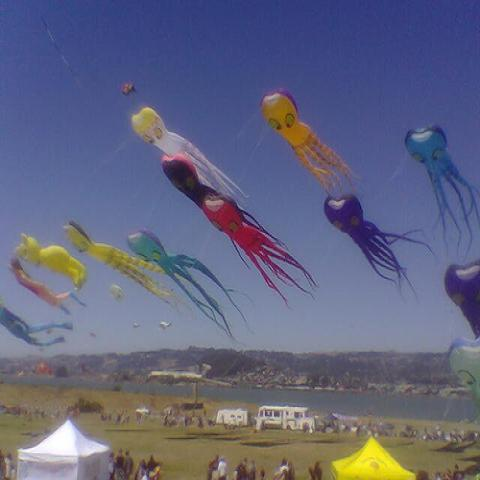bus: (258, 405, 316, 432)
car: (135, 403, 149, 415)
truck: (216, 407, 250, 430)
